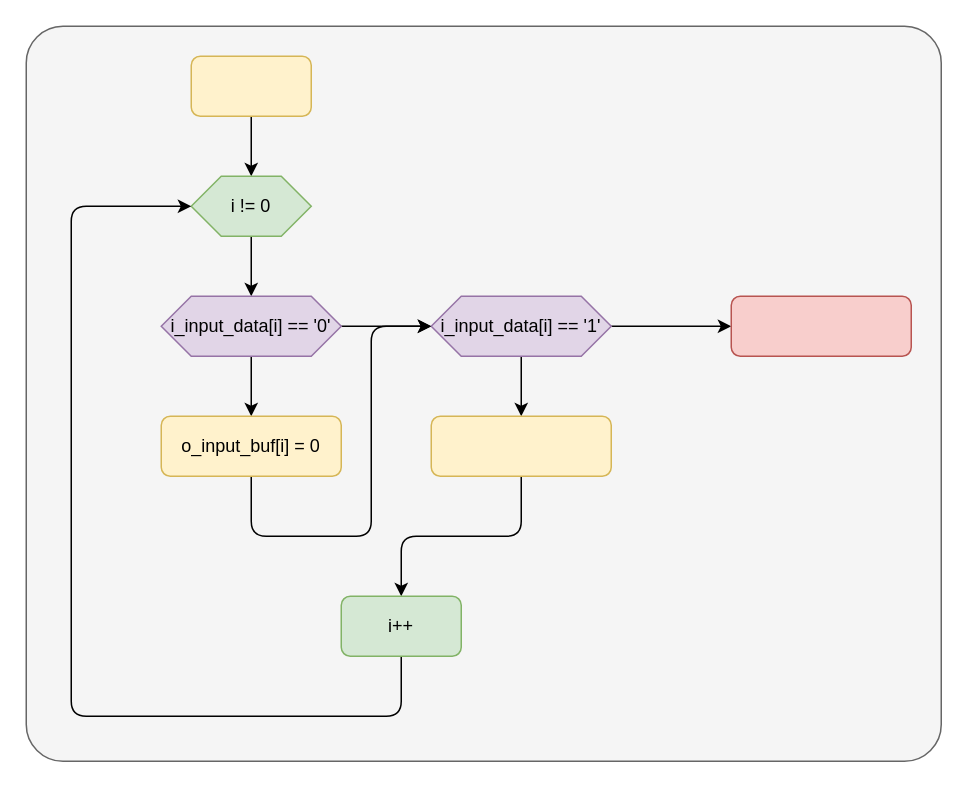
The diagram is 968 pixels wide and 788 high, and some of its shapes have lost their labels. Here are the shapes that lost their labels. From the top down, the box of each, then its label:
(190, 55, 311, 116): Del '\n'
(730, 295, 911, 356): Error
(430, 415, 611, 476): o_input_buf[i] = 1
